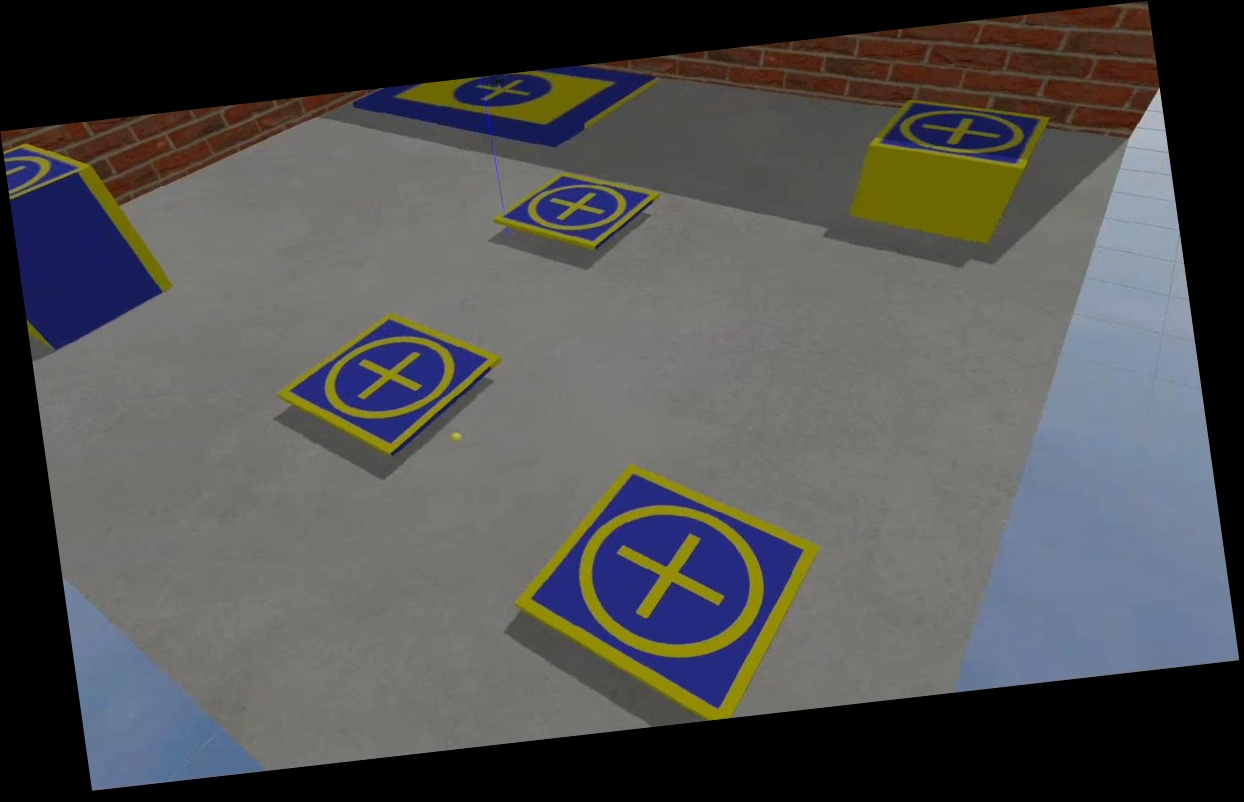large_base: (350, 56, 672, 169)
small_base: (498, 443, 842, 742), (267, 301, 515, 469), (859, 82, 1059, 191), (488, 159, 668, 264), (3, 137, 100, 204)
